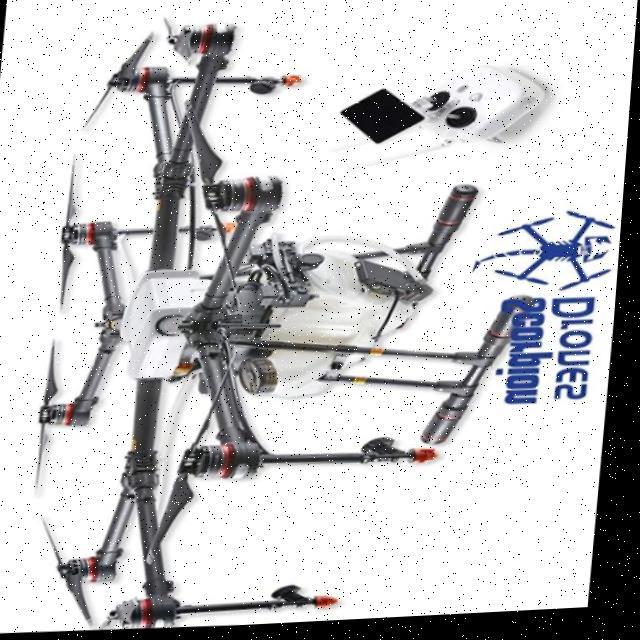drones: (0, 0, 587, 639)
